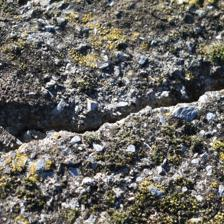Crack: (2, 31, 216, 123)
